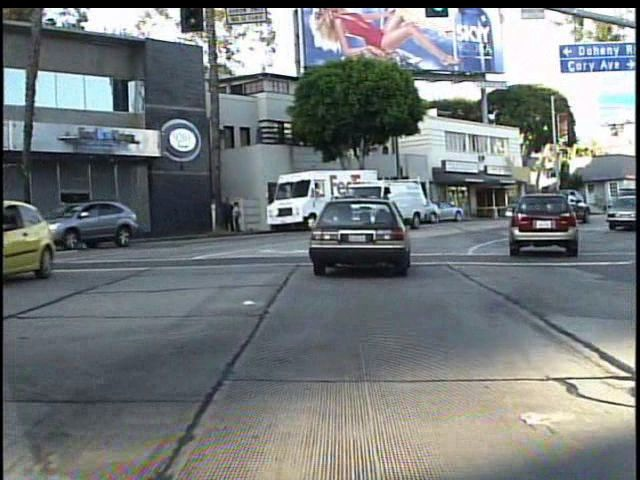person: (221, 194, 235, 234), (232, 200, 246, 235)
